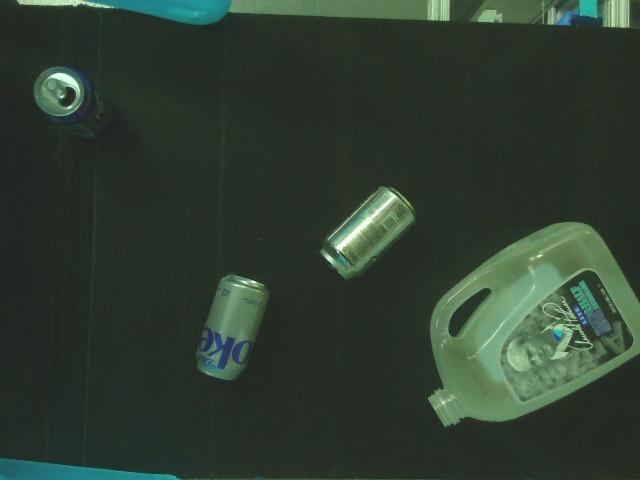metal: (318, 180, 416, 282), (194, 267, 270, 389), (30, 65, 117, 147)
plastic: (426, 218, 640, 431)
